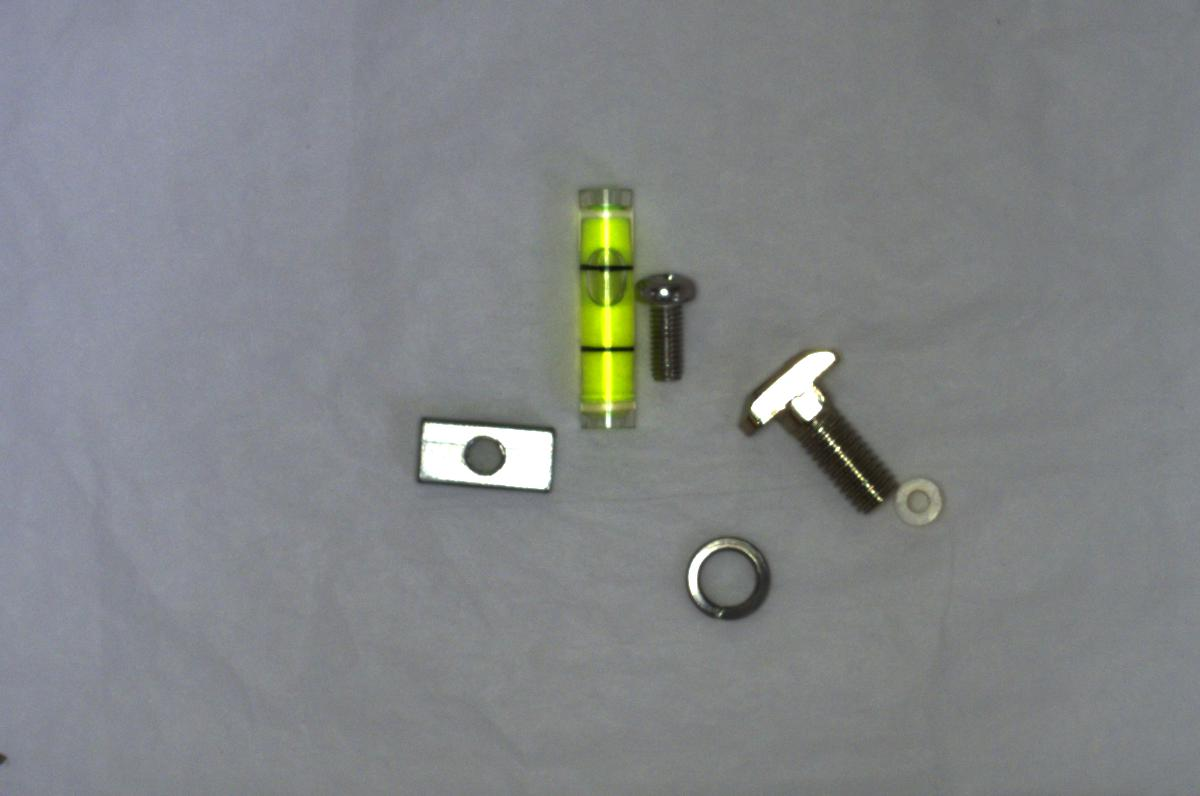Horizontal bubble: (570, 173, 632, 432)
Plastic cushion pillar: (893, 461, 950, 530)
Rectangular nut: (415, 412, 561, 499)
Round head screw: (639, 261, 705, 395)
Spring washer: (678, 530, 778, 632)
T-shaped screw: (734, 338, 897, 515)
